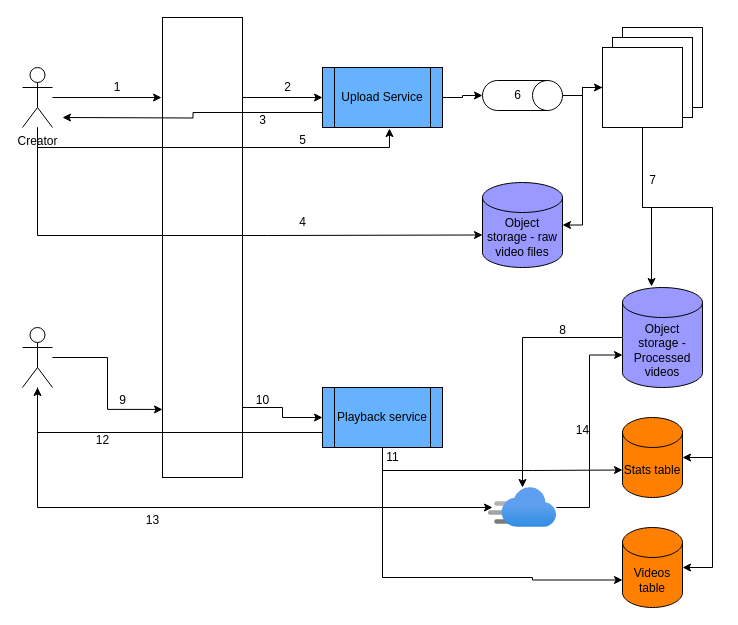
The diagram is 738 pixels wide and 625 high, and some of its shapes have lost their labels. Each missing label, with the centre of its shape:
"CDN" goes at [522,507].
"Load Balancer + API Gateway" goes at [202,247].
"Video Processing Workers" goes at [642,87].
"Viewer" goes at [37,357].
